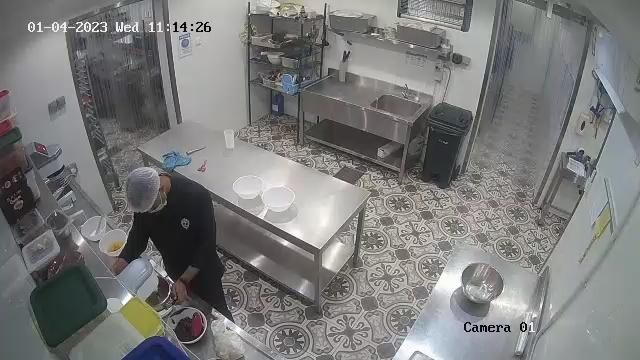no_apron: (150, 175, 216, 300)
